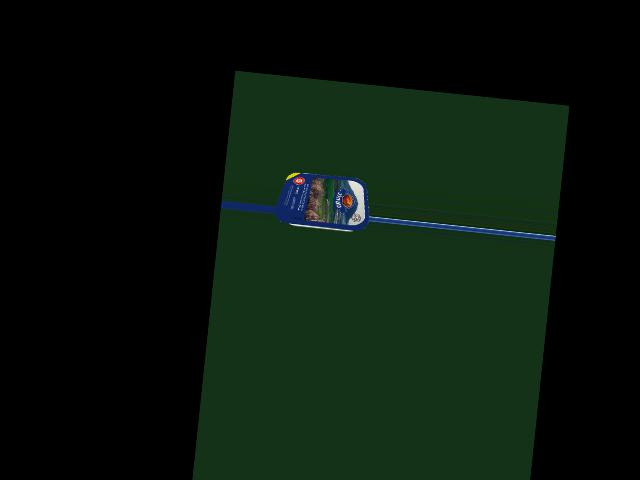cheese: (283, 168, 366, 239)
